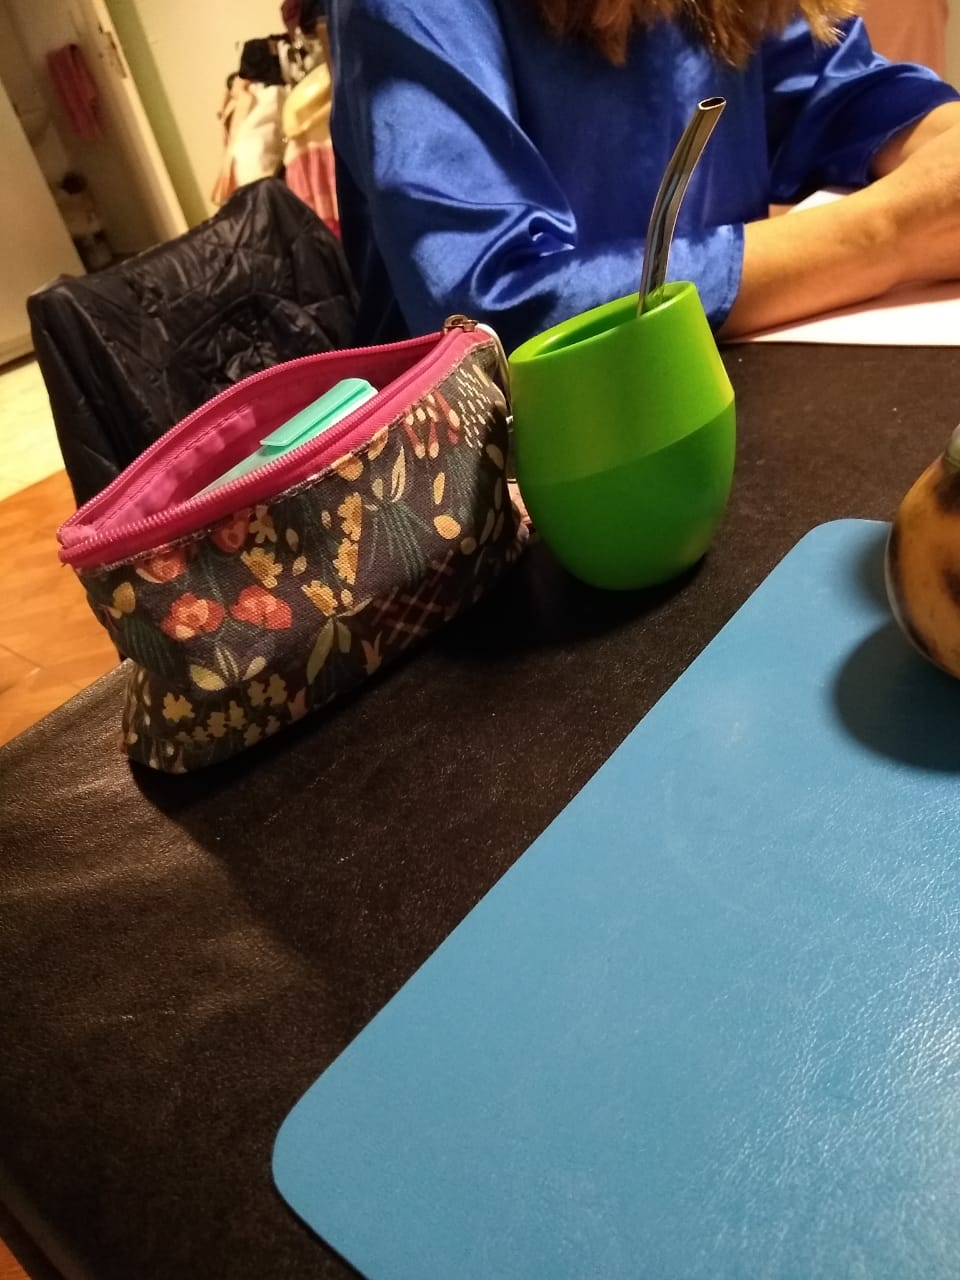mate: (501, 91, 741, 598)
plastico: (499, 89, 739, 596)
